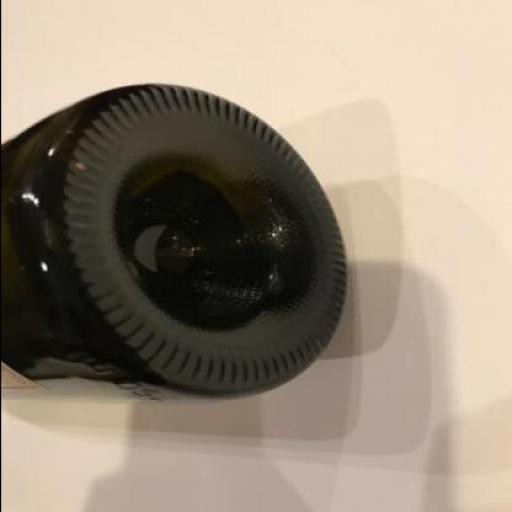glass: (2, 83, 348, 406)
